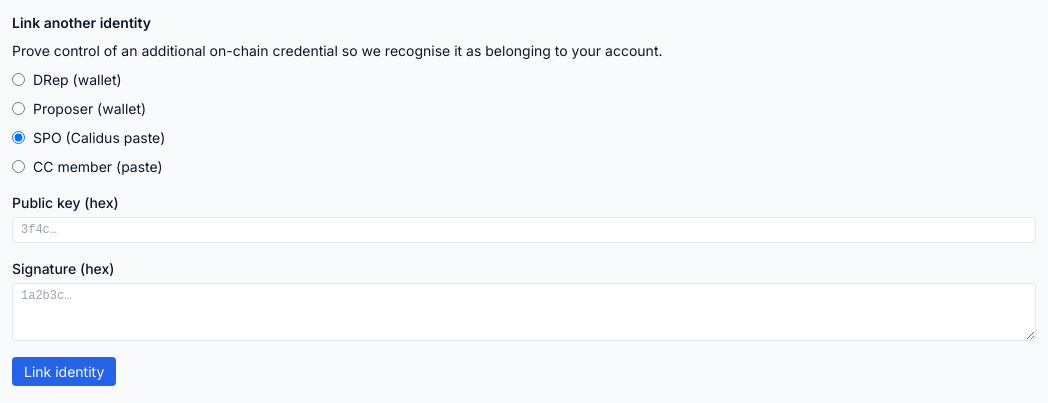
Test: LinkCredentialForm — rendering › shows the wallet hint and disables submit when wallet role selected without a wallet
Click the radio button with test id "link-role-drep" at (18, 80), box [12,73,25,86]
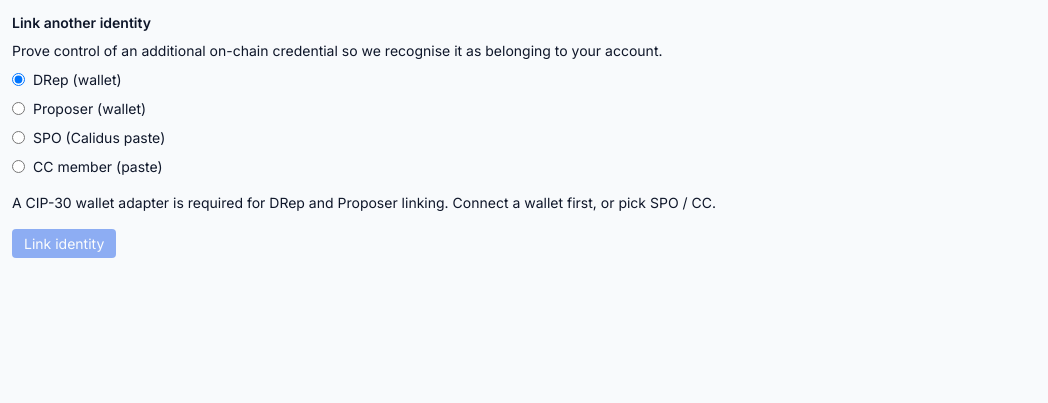
expect the text with test id "link-wallet-hint" is shown: met, box [12,194,716,211]
expect the button with test id "link-submit" is disabled: met, box [12,229,116,258]
